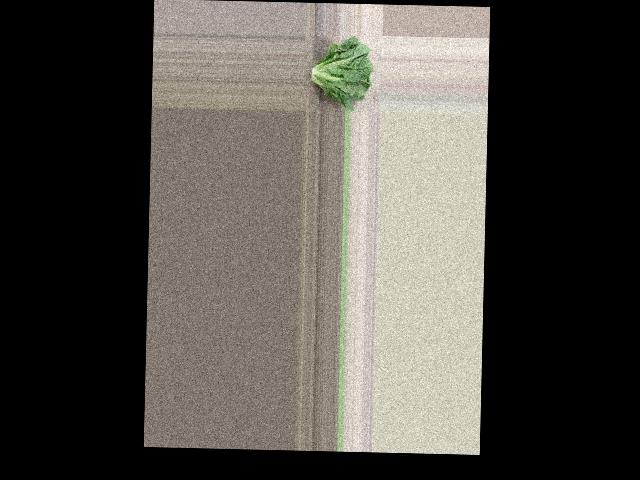lettuce: (305, 37, 375, 110)
